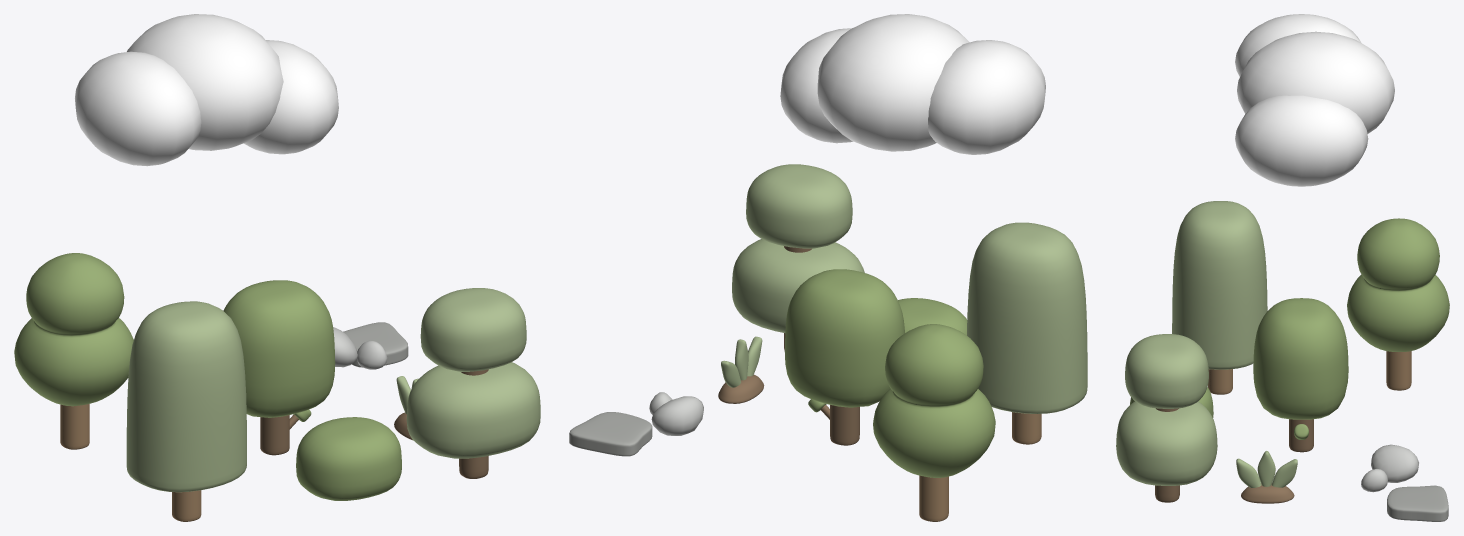
File: forest_package.fbx
3 views of the same model, side by side, from view 1: azimuth 30°, elevation 25°; view 2: azimuth 150°, elevation 25°; view 3: azimuth 270°, elevation 25° (orthographic). The views are drawn at different scales.
Parts seen in each view (by area): view 1: cloud, Tree_2, Tree_5, Tree_3, Tree_1, Bush, flat_rock, big, Grass; view 2: cloud, Tree_2, Tree_3, Tree_1, Tree_5, flat_rock, Grass, big, Bush; view 3: cloud, Tree_2, Tree_5, Tree_3, Tree_1, Grass, flat_rock, big.
Boxes of the visible parts, x1,y1,x2,y2 form: cloud: (75,14,338,166); Tree_2: (126,301,246,521); Tree_5: (406,288,540,478); Tree_3: (14,253,133,449); Tree_1: (223,280,335,455); Bush: (296,417,401,500); flat_rock: (343,322,408,367); big: (333,327,387,369); Grass: (394,376,418,440); cloud: (780,14,1045,154); Tree_2: (967,222,1087,444); Tree_3: (873,324,995,521); Tree_1: (784,269,904,445); Tree_5: (732,164,864,350); flat_rock: (569,412,652,456); Grass: (718,336,764,403); big: (649,392,703,435); Bush: (898,298,967,335); cloud: (1235,14,1394,186); Tree_2: (1172,201,1267,394); Tree_5: (1116,334,1217,502); Tree_3: (1347,218,1449,390); Tree_1: (1253,298,1348,452); Grass: (1236,451,1297,503); flat_rock: (1387,485,1448,521); big: (1361,444,1418,492).
Size of the model in its own units: 62.69 by 66.7 by 52.94.
